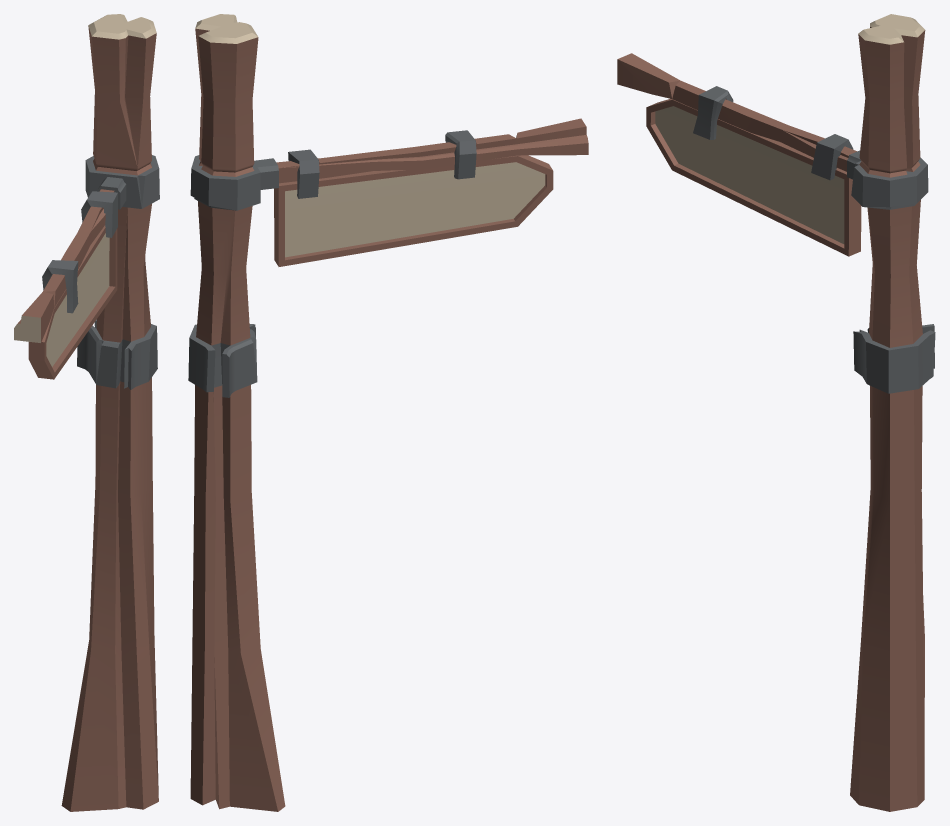
The model's file is SM_Wooden_Direction_Sign_01.fbx.
3 views of the same model, side by side, from view 1: azimuth 30°, elevation 25°; view 2: azimuth 150°, elevation 25°; view 3: azimuth 270°, elevation 25° (orthographic).
Visible parts, largest first — view 1: Wooden_Direction_Sign_01; view 2: Wooden_Direction_Sign_01; view 3: Wooden_Direction_Sign_01.
Boxes of the visible parts, x1,y1,x2,y2 form: Wooden_Direction_Sign_01: (14, 14, 159, 811); Wooden_Direction_Sign_01: (188, 14, 588, 811); Wooden_Direction_Sign_01: (617, 14, 935, 811).
Bounding box in the file's own units: 35.89 × 98.06 × 36.72.
